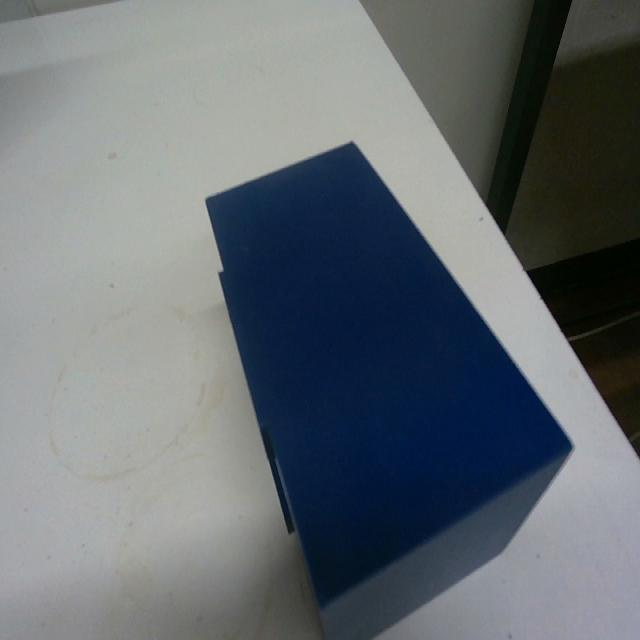Blue Cuboid: (203, 136, 574, 635)
